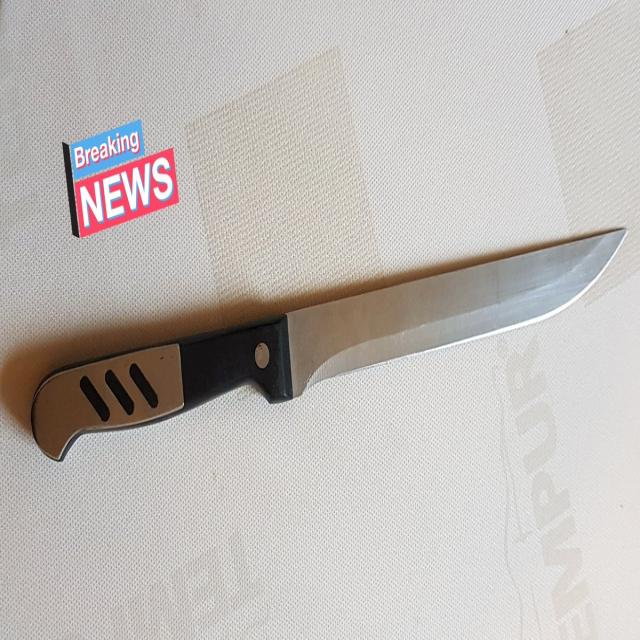Sharp-Object: (31, 228, 632, 462)
